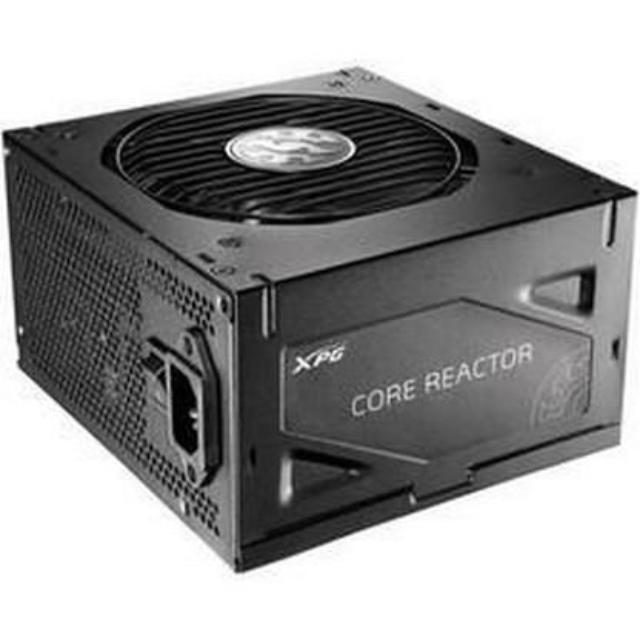PSU: (0, 54, 640, 572)
